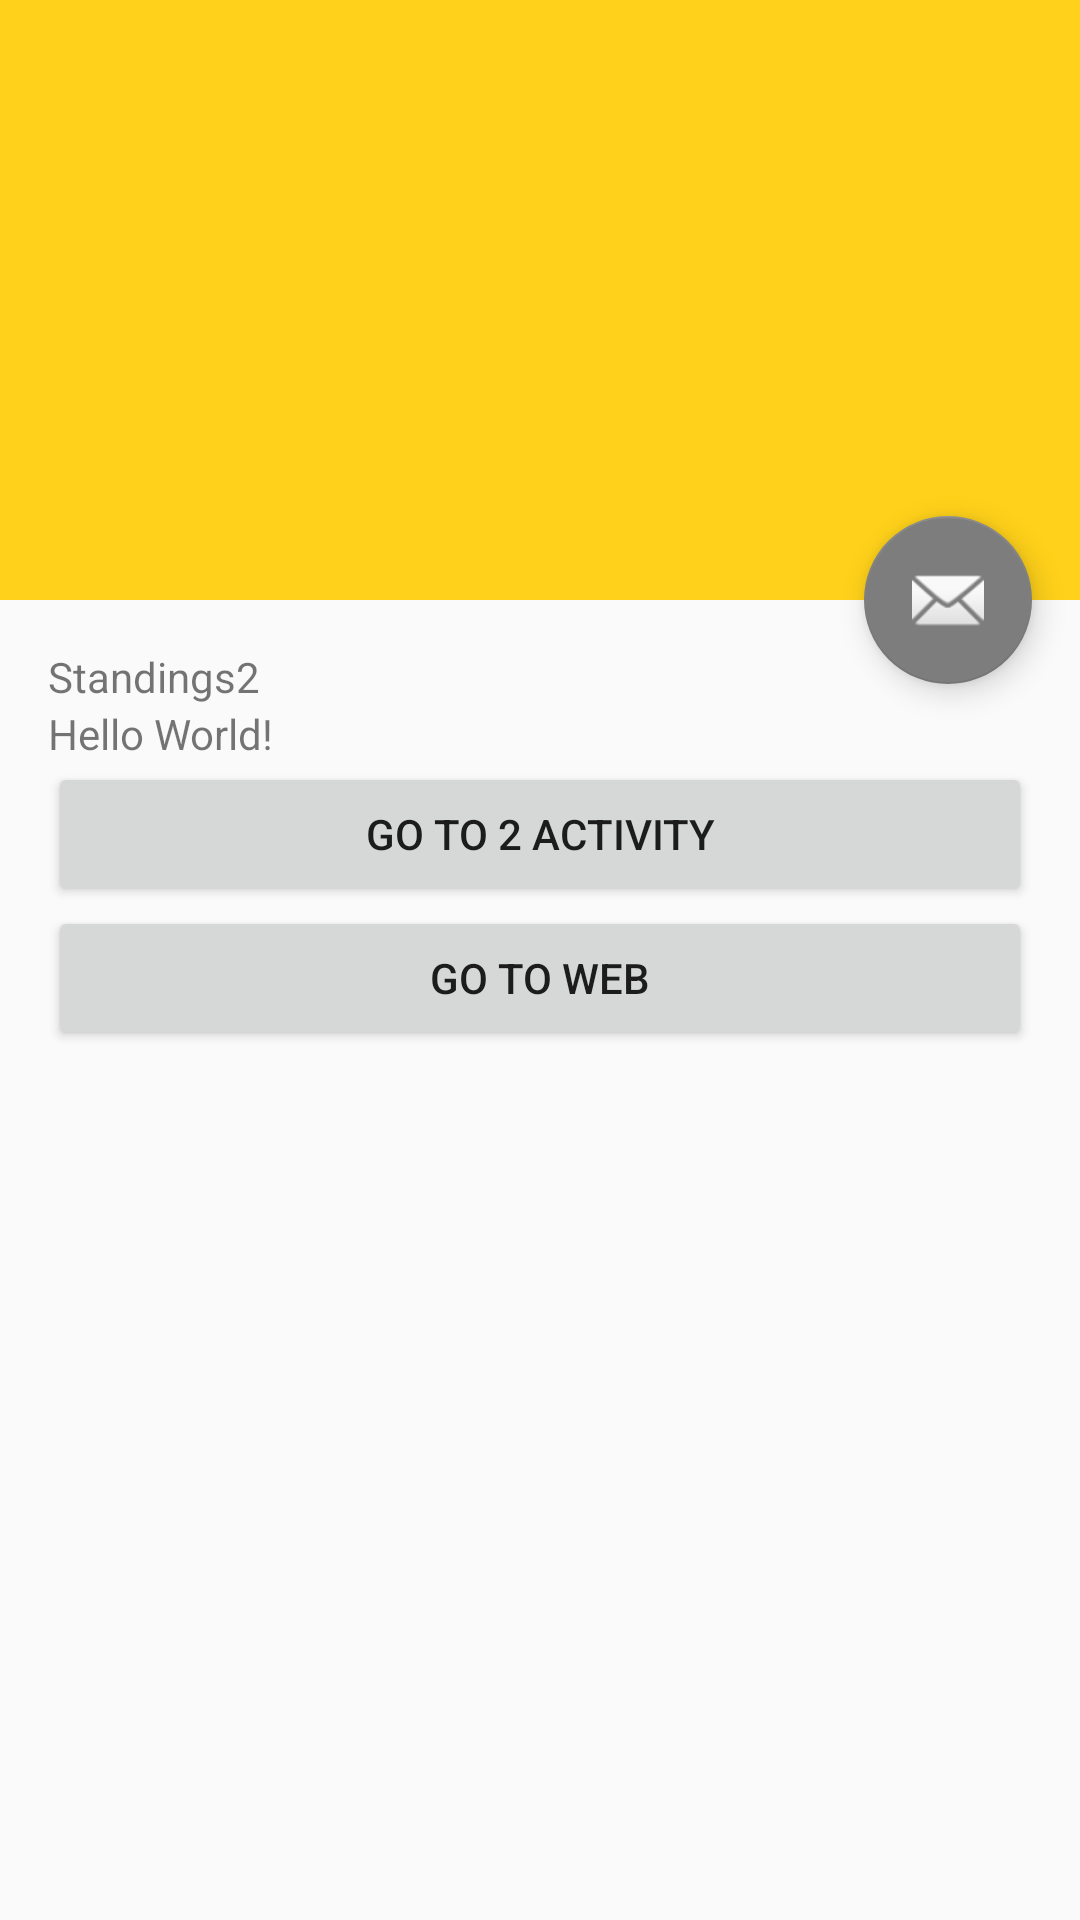

Screen size 1080px×1920px. Icon name, then its center in pixels as (x,y):
email: (948,600)
